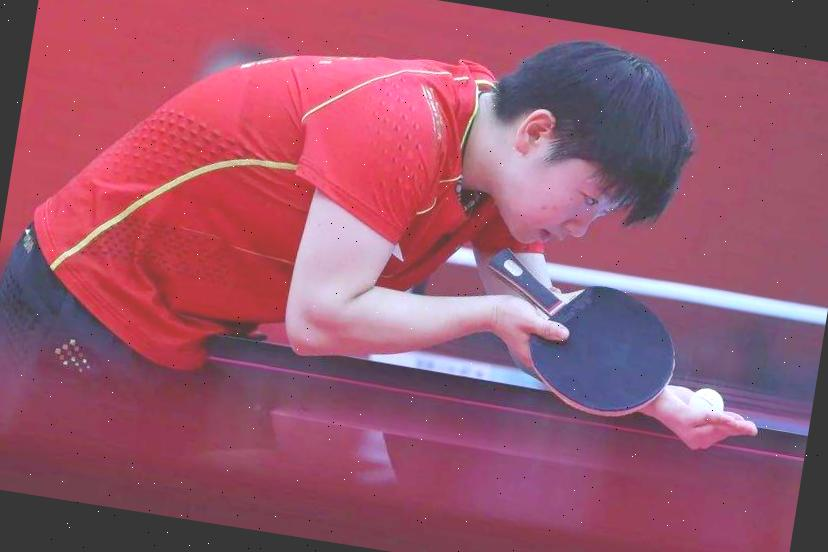ball: (684, 381, 730, 420)
